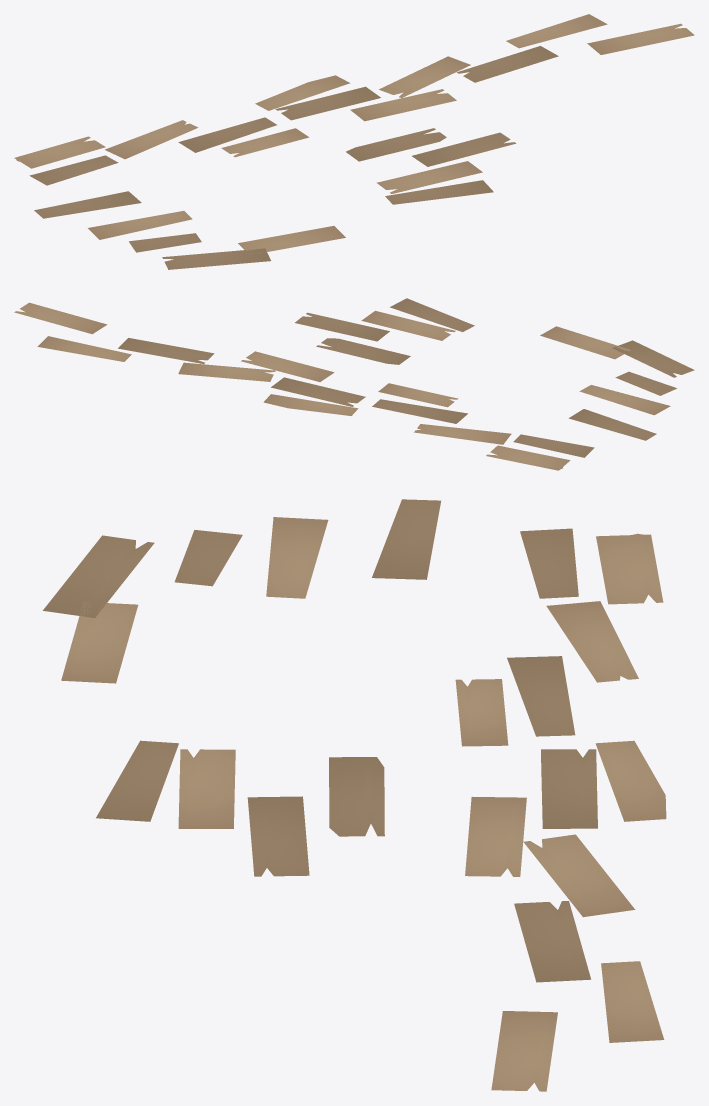
Rendered from Planks.fbx.
The picture shows the model from 3 angles, top to bottom: view 1: azimuth 30°, elevation 25°; view 2: azimuth 150°, elevation 25°; view 3: azimuth 270°, elevation 25°; orthographic projection. The views are drawn at different scales.
Parts seen in each view (by area): view 1: Planks; view 2: Planks; view 3: Planks.
Part boxes in pixels (bbox=[...]): Planks: bbox=[14, 14, 694, 269]; Planks: bbox=[14, 298, 694, 470]; Planks: bbox=[43, 499, 666, 1091].
Bounding box in the file's own units: 1718 × 0.000125 × 765.
